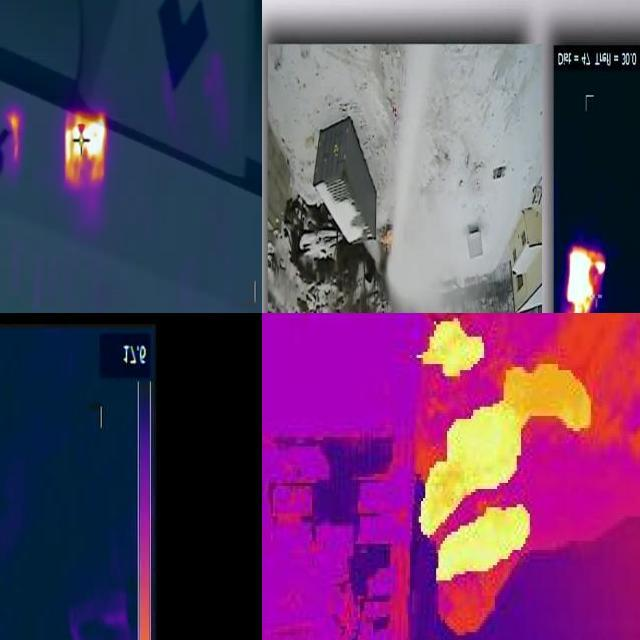fire: (418, 316, 598, 588), (66, 108, 106, 192), (566, 244, 606, 314)
